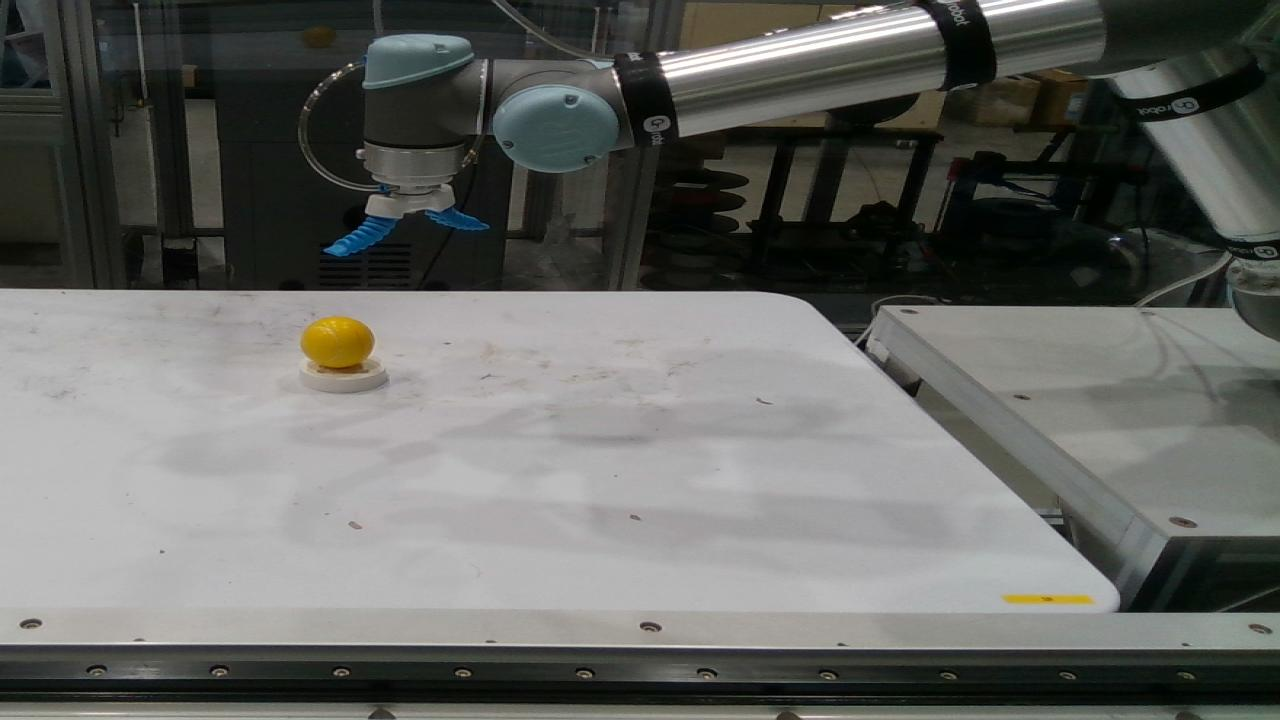UR5: (358, 0, 1279, 340)
gripper_left: (424, 206, 489, 231)
gripper_right: (325, 214, 399, 255)
target: (299, 350, 387, 393), (301, 316, 375, 367)
